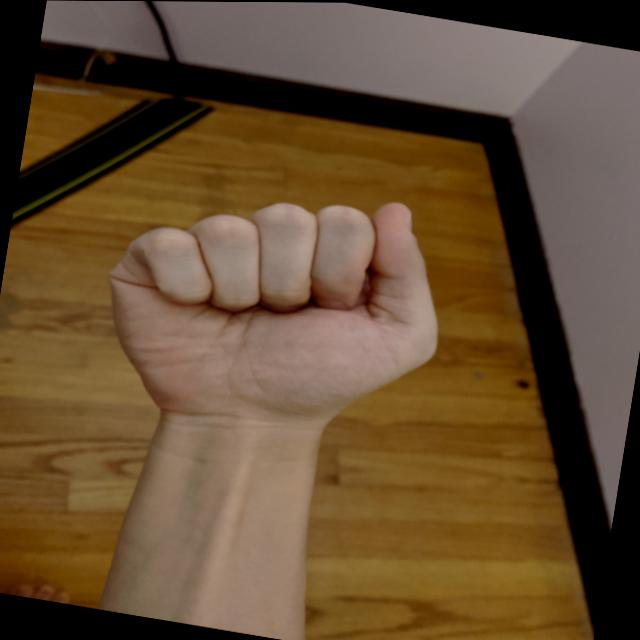A: (77, 150, 470, 471)
